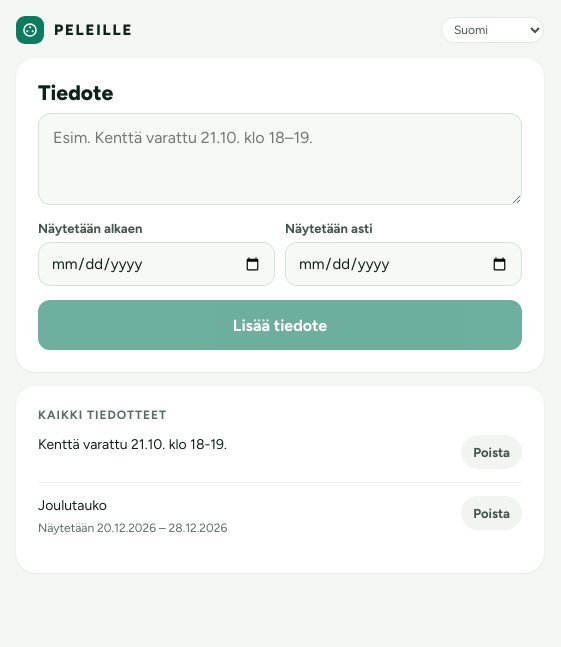
Test case: the unlisted announcements page › cancelling leaves it alone
This screenshot has width=561, height=647.
Expected: the text "Joulutauko" is shown, [38,497,107,514]
Click the button "Poista" in the row of "Näytetään 20.12.2026 – 28.12.2026".
click(492, 513)  # box [461,496,522,530]
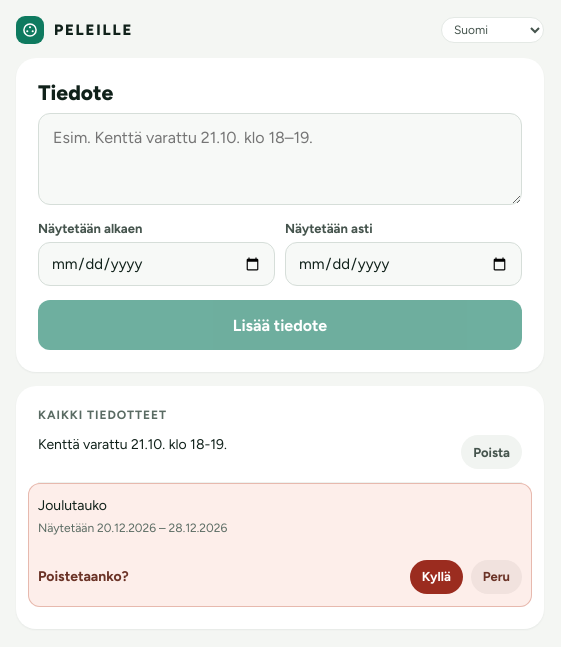
Click the button "Peru".
click(496, 577)  # box [471,560,522,594]
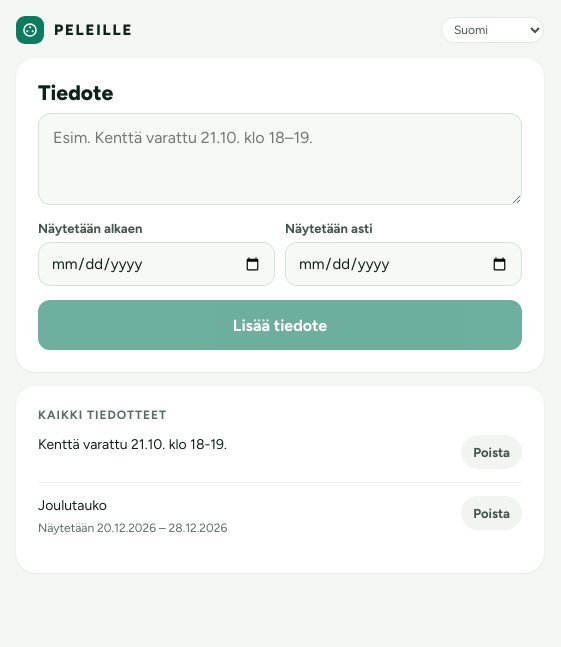
Expected: the button "Poista" in the row of "Näytetään 20.12.2026 – 28.12.2026" is shown, [461,496,522,530]
